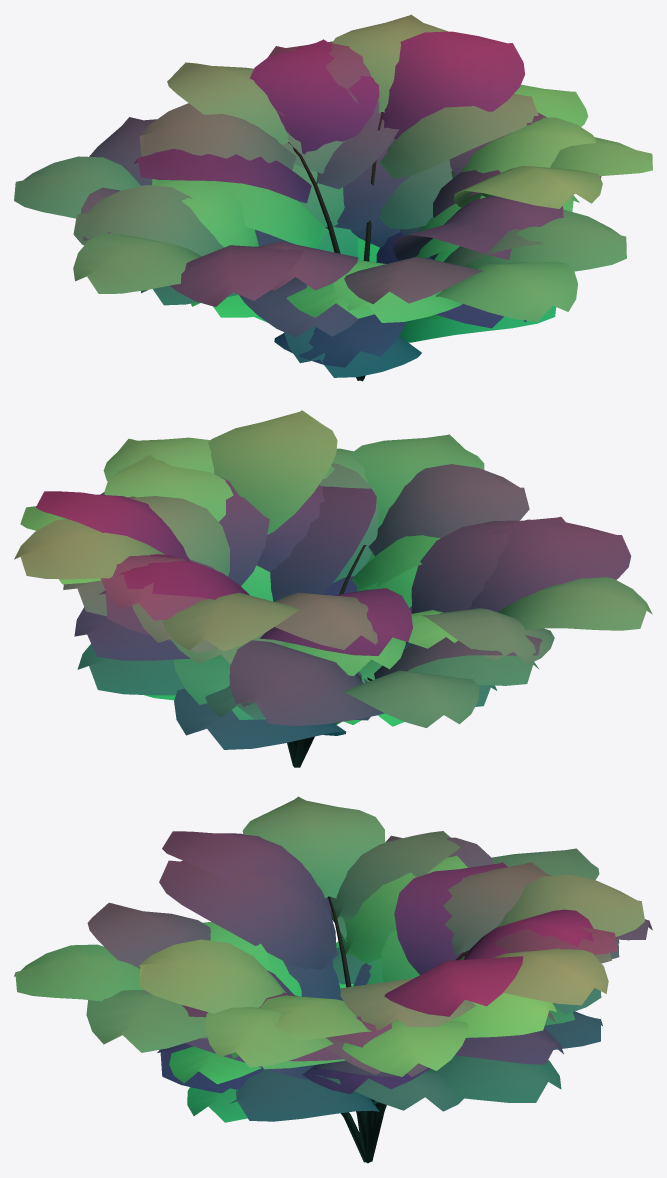
Rendered from ShoreBroadleaf_A.fbx.
3 views of the same model, one above another, from view 1: azimuth 30°, elevation 25°; view 2: azimuth 150°, elevation 25°; view 3: azimuth 270°, elevation 25° (orthographic). The views are drawn at different scales.
Visible parts, largest first — view 1: ShoreBroadleaf_A_LOD0; view 2: ShoreBroadleaf_A_LOD0; view 3: ShoreBroadleaf_A_LOD0.
Part boxes in pixels (x1,y1,x2,y2): ShoreBroadleaf_A_LOD0: (14, 14, 652, 381); ShoreBroadleaf_A_LOD0: (14, 410, 652, 767); ShoreBroadleaf_A_LOD0: (14, 796, 652, 1163).
Size of what is drawn, in the model's own units: 1.32 by 0.5908 by 1.28.
